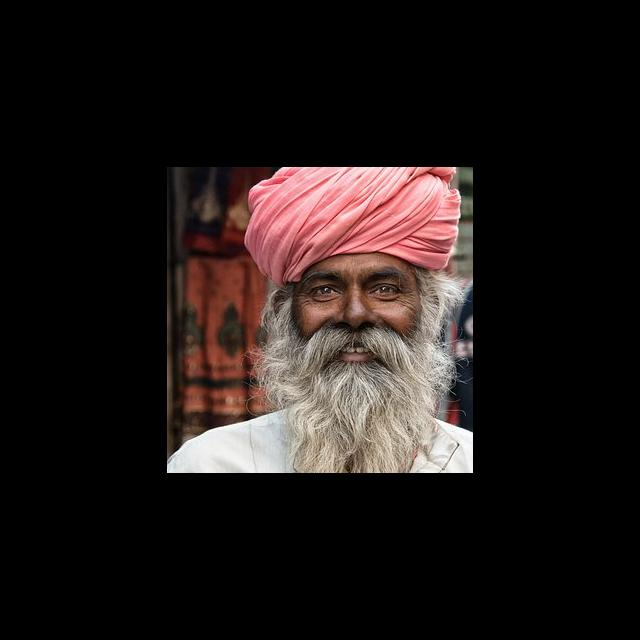male: (231, 167, 473, 473)
